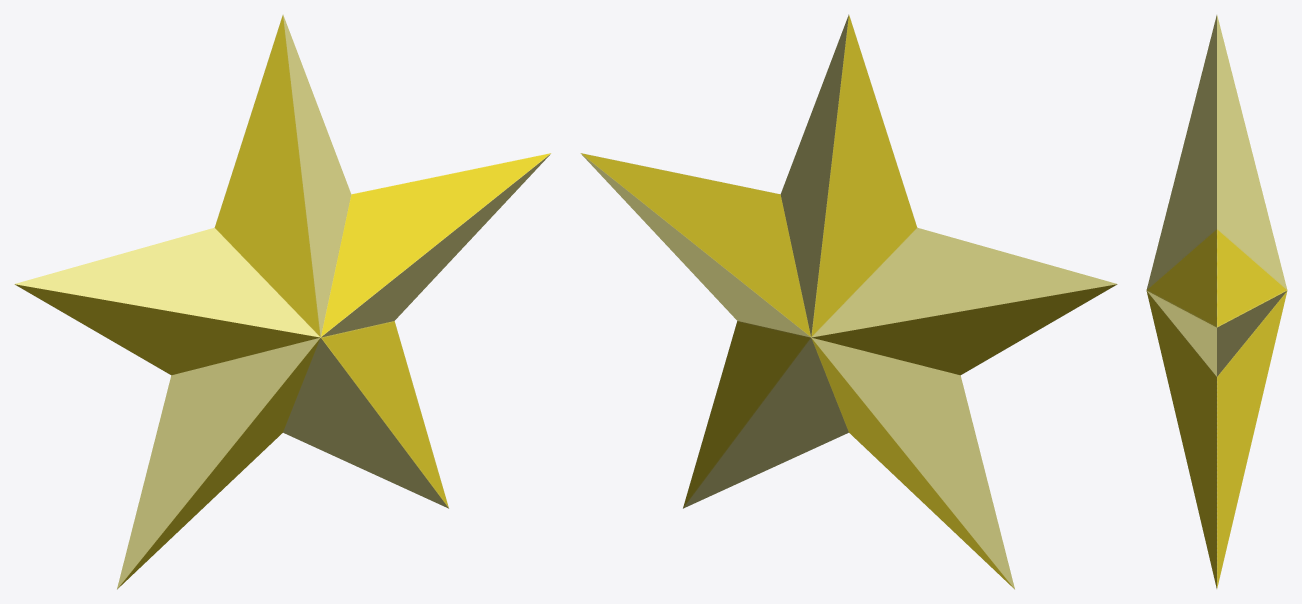
File: Star.fbx
3 renders of one model, left to right at view 1: azimuth 30°, elevation 25°; view 2: azimuth 150°, elevation 25°; view 3: azimuth 270°, elevation 25°, orthographic. The views are drawn at different scales.
Visible parts, largest first — view 1: pCone8; view 2: pCone8; view 3: pCone8.
Part boxes in pixels (bbox=[...]): pCone8: bbox=[14, 14, 551, 589]; pCone8: bbox=[580, 14, 1117, 589]; pCone8: bbox=[1146, 15, 1287, 588].
Bounding box in the file's own units: 4.72 × 4.49 × 1.15.
Materials: 1 (1 with a texture image).
